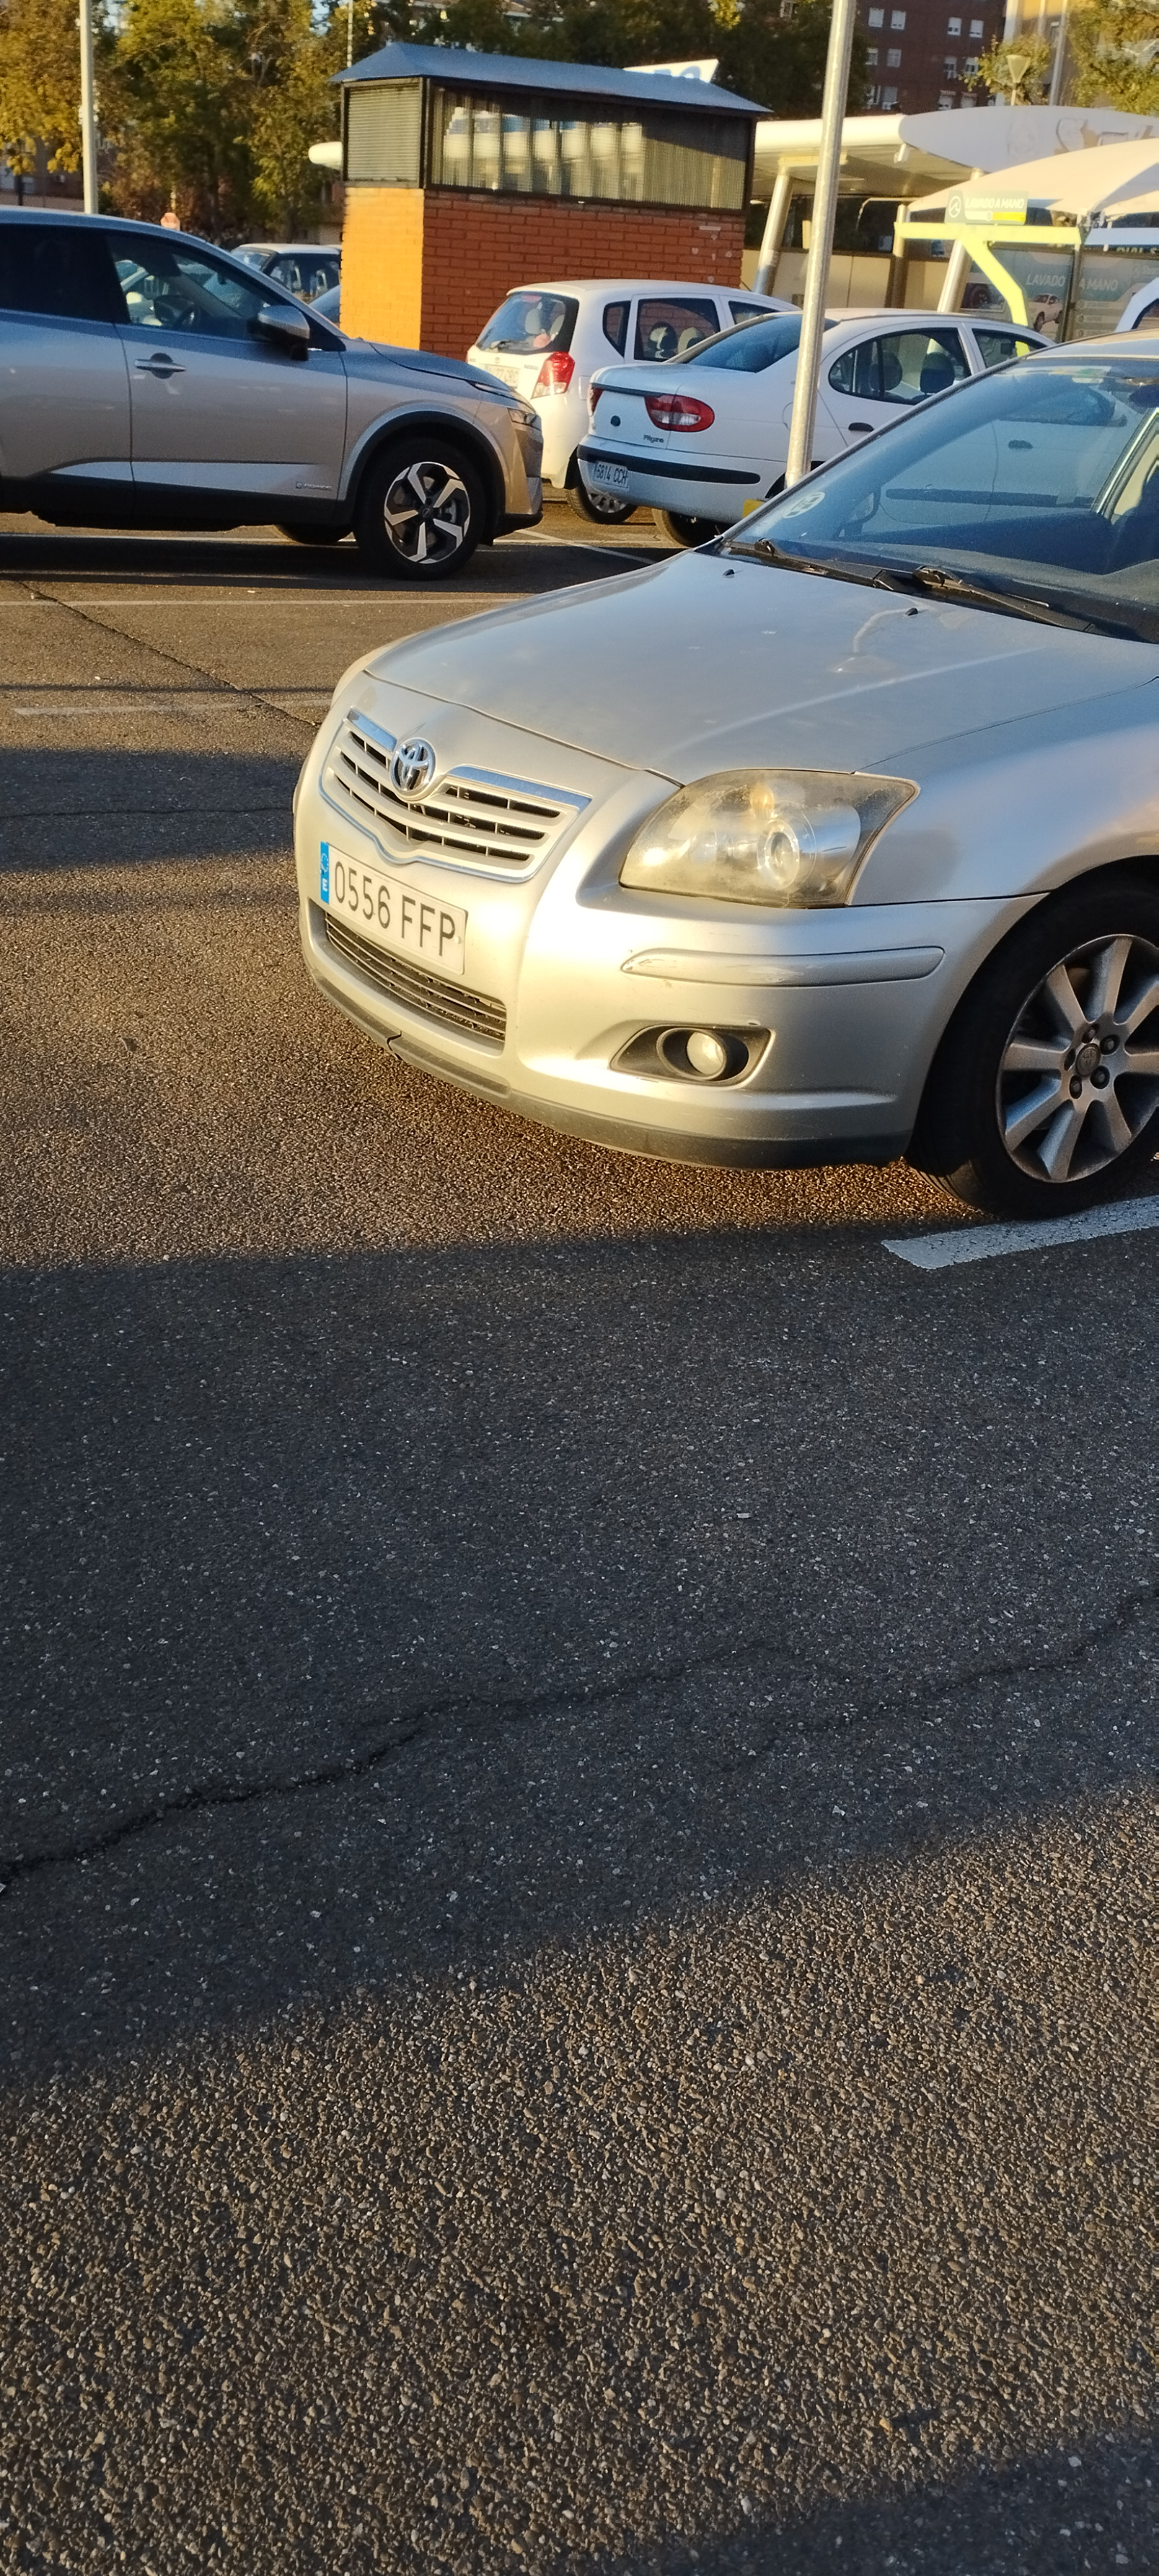Car: (277, 318, 1158, 1218)
Plate: (329, 850, 494, 924)
